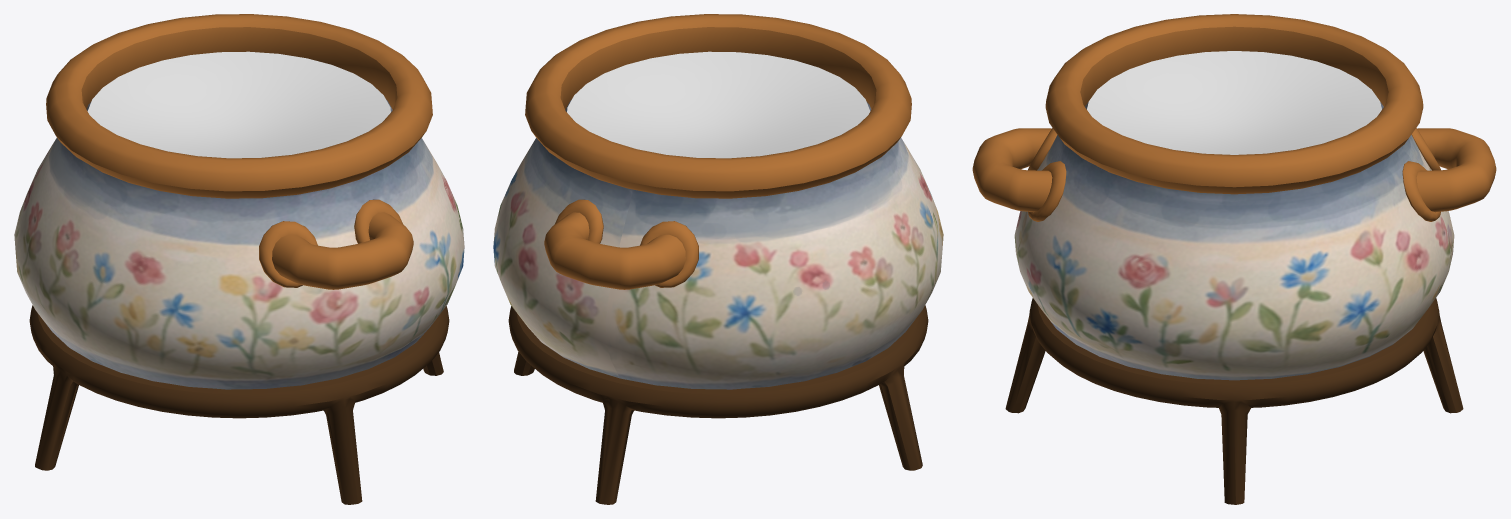
File: kotel3 (1).fbx
The picture shows the model from 3 angles, left to right: view 1: azimuth 30°, elevation 25°; view 2: azimuth 150°, elevation 25°; view 3: azimuth 270°, elevation 25°; orthographic projection. The views are drawn at different scales.
Parts seen in each view (by area): view 1: Plane, Plane.006, Torus.003, Cylinder.002; view 2: Plane, Plane.006, Torus.003, Cylinder.002; view 3: Plane, Plane.006, Torus.003, Cylinder.002.
Part boxes in pixels (left/top/right/bottom): Plane: left=14, top=14, right=464, bottom=389; Plane.006: left=87, top=51, right=390, bottom=158; Torus.003: left=29, top=305, right=449, bottom=504; Cylinder.002: left=259, top=199, right=413, bottom=289; Plane: left=493, top=14, right=943, bottom=389; Plane.006: left=567, top=51, right=870, bottom=158; Torus.003: left=508, top=305, right=928, bottom=504; Cylinder.002: left=544, top=199, right=698, bottom=289; Plane: left=1014, top=14, right=1454, bottom=380; Plane.006: left=1087, top=51, right=1381, bottom=154; Torus.003: left=1005, top=298, right=1463, bottom=504; Cylinder.002: left=972, top=128, right=1496, bottom=221.
Bounding box in the file's own units: 0.6028 × 0.4686 × 0.6897.
